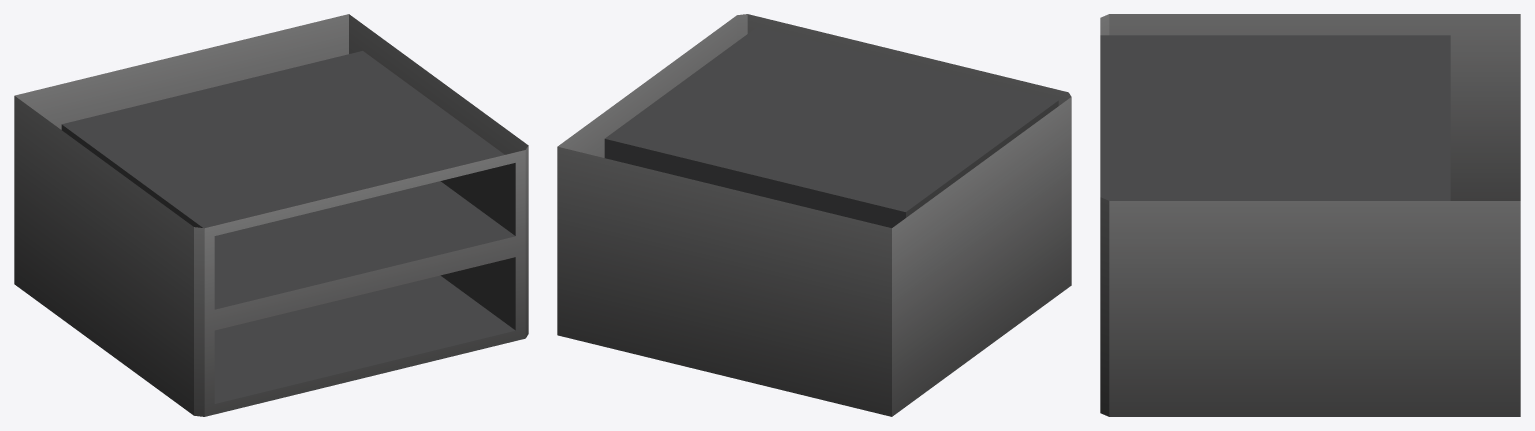
The model's file is Counter_01_v07_S.fbx.
3 views of the same model, side by side, from view 1: azimuth 30°, elevation 25°; view 2: azimuth 150°, elevation 25°; view 3: azimuth 270°, elevation 25° (orthographic). The views are drawn at different scales.
Parts seen in each view (by area): view 1: Counter_01_v07_S; view 2: Counter_01_v07_S; view 3: Counter_01_v07_S.
Boxes of the visible parts, left/top/right/bottom form: Counter_01_v07_S: left=14, top=14, right=528, bottom=416; Counter_01_v07_S: left=557, top=14, right=1071, bottom=416; Counter_01_v07_S: left=1100, top=14, right=1520, bottom=416.
Bounding box in the file's own units: 100 × 53.91 × 94.97.
